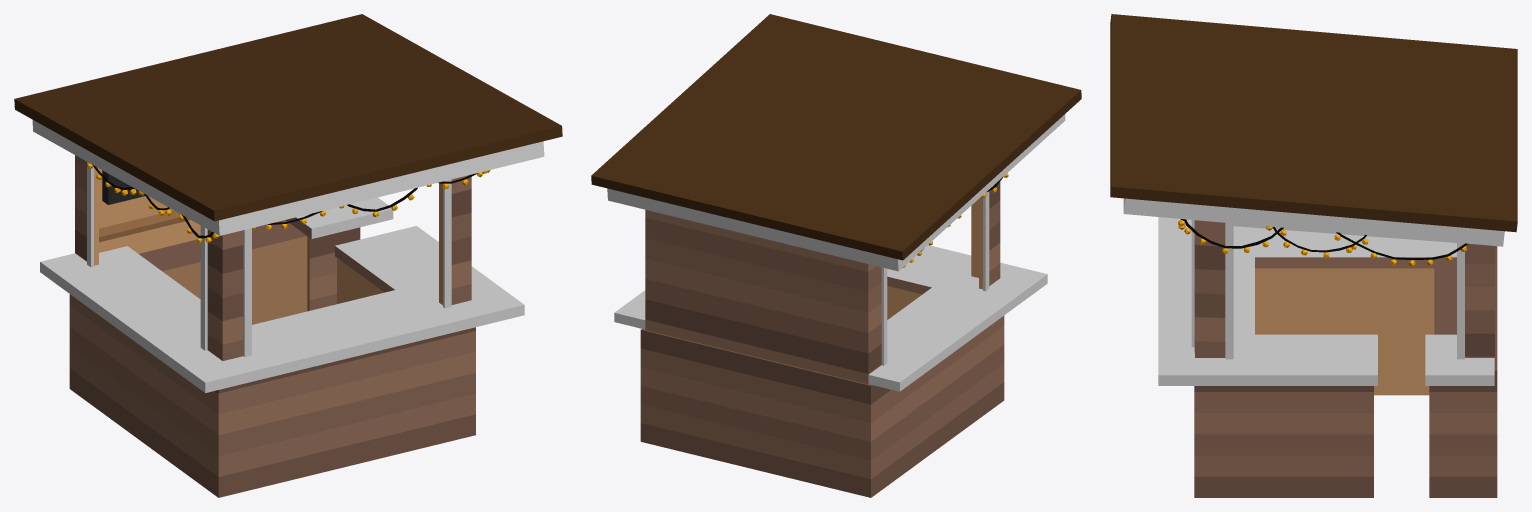
The model's file is Bar_02.fbx.
3 renders of one model, left to right at view 1: azimuth 30°, elevation 25°; view 2: azimuth 150°, elevation 25°; view 3: azimuth 270°, elevation 25°, orthographic. The views are drawn at different scales.
Visible parts, largest first — view 1: Bar_02; view 2: Bar_02; view 3: Bar_02.
Boxes of the visible parts, x1,y1,x2,y2 form: Bar_02: [14, 14, 562, 497]; Bar_02: [591, 14, 1081, 497]; Bar_02: [1110, 14, 1517, 497].
Size of the model in its own units: 338 by 304 by 337.
